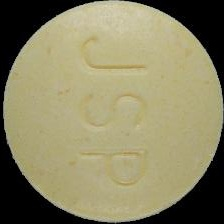21695-752: (0, 0, 224, 224)
